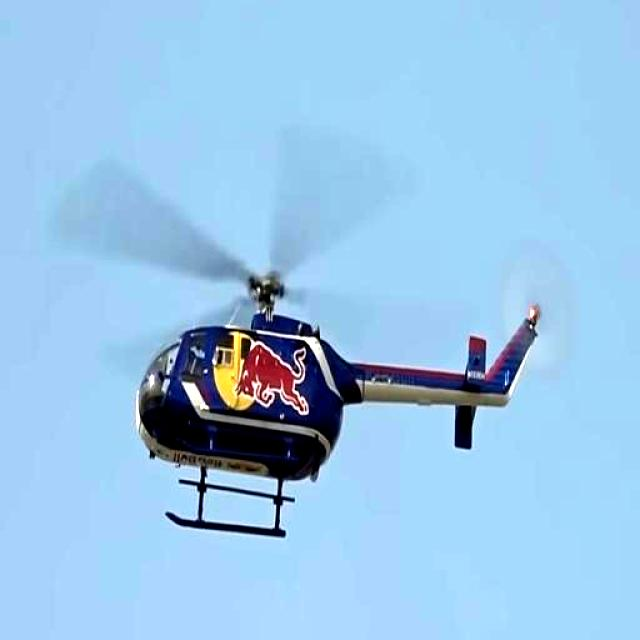drone: (78, 129, 551, 569)
